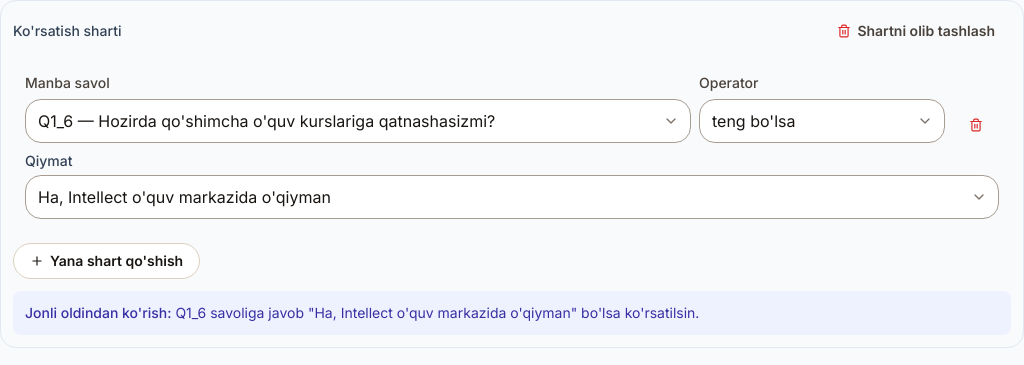
Test: VisibilityRuleEditor › manba savolni matn turiga almashtirsa operator ro‘yxati Answered/NotAnswered ga qisqaradi va qiymat maydoni yo‘qoladi
The width and height of the screenshot is (1024, 365).
Select "Q1_1 — F.I.Sh." in the dropdown labelled "Manba savol": (358, 121) [25,99,691,143]
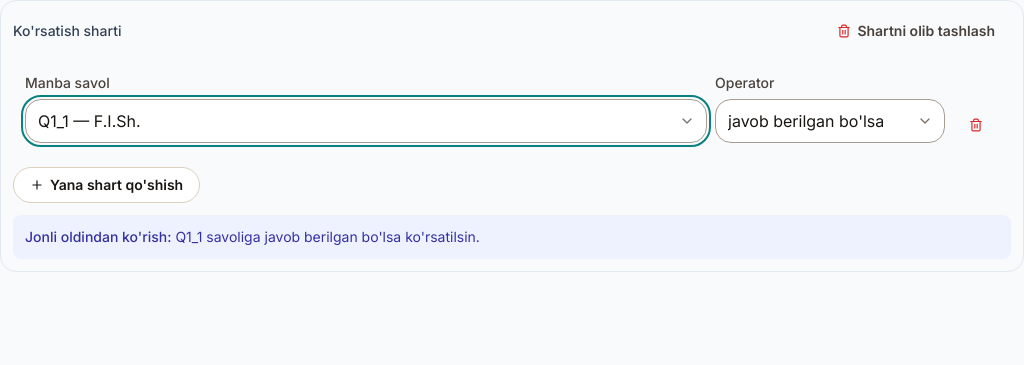
Now the text "Qiymat" is gone
